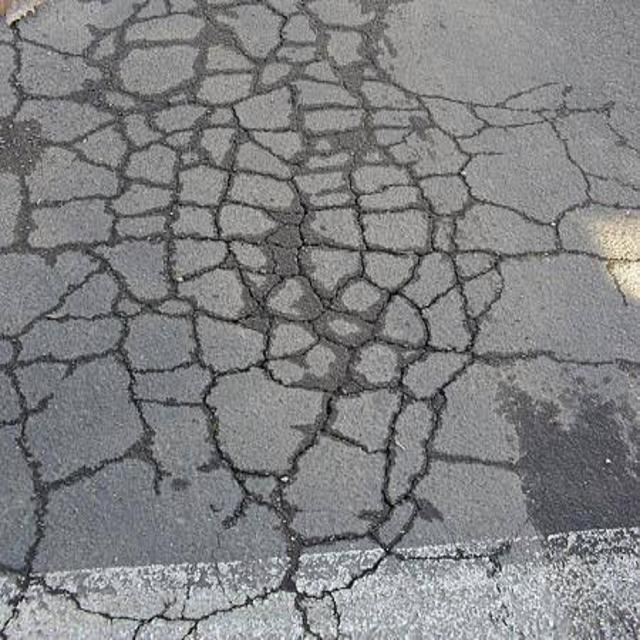Retak Buaya: (0, 0, 624, 631)
